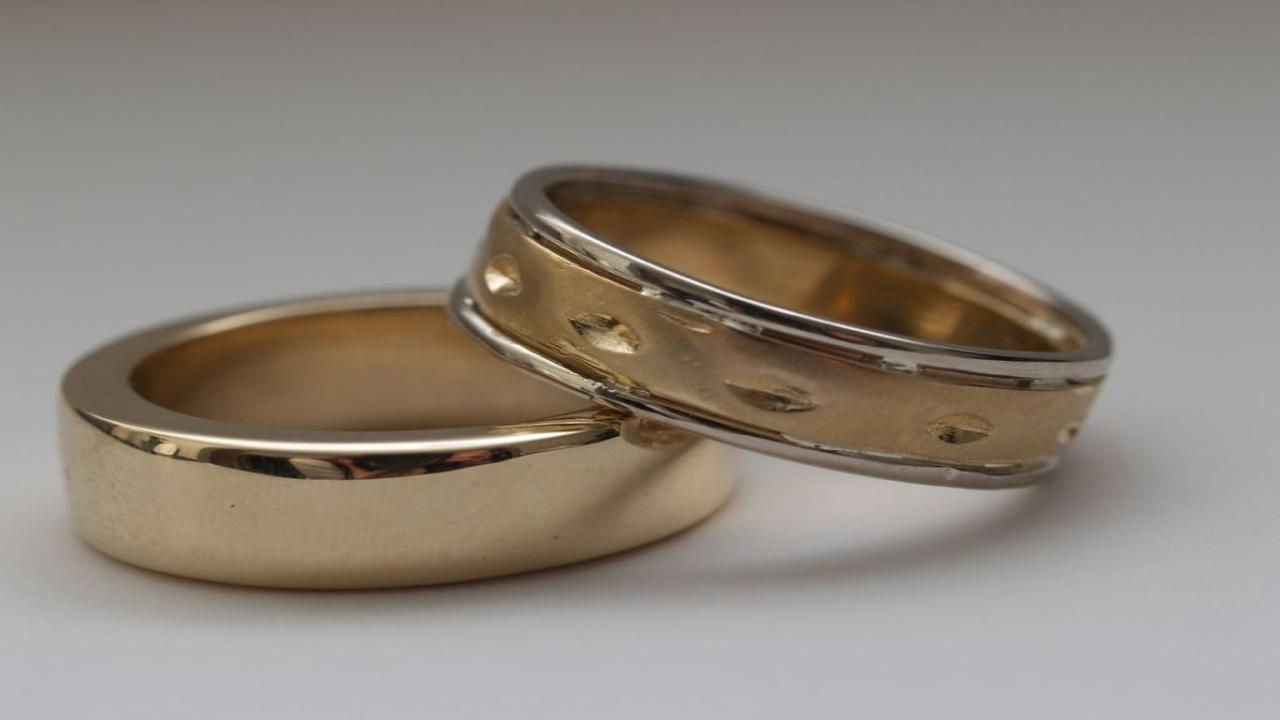ring: (447, 159, 1115, 495), (49, 283, 761, 591)
